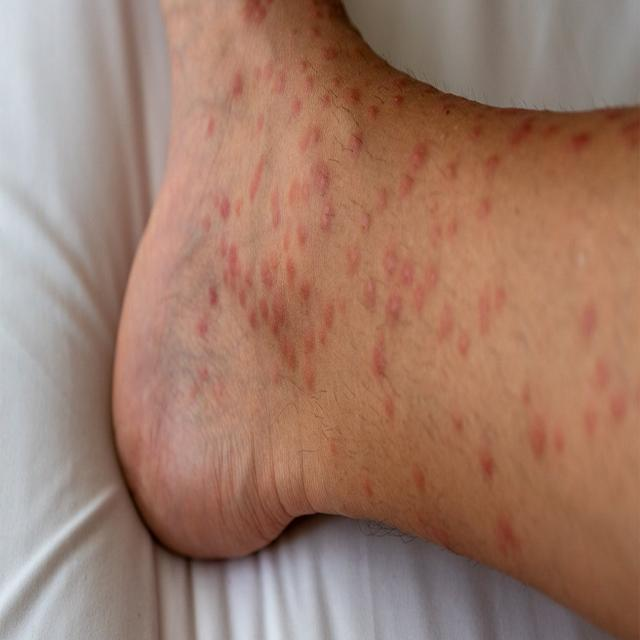hives: (183, 53, 606, 602)
